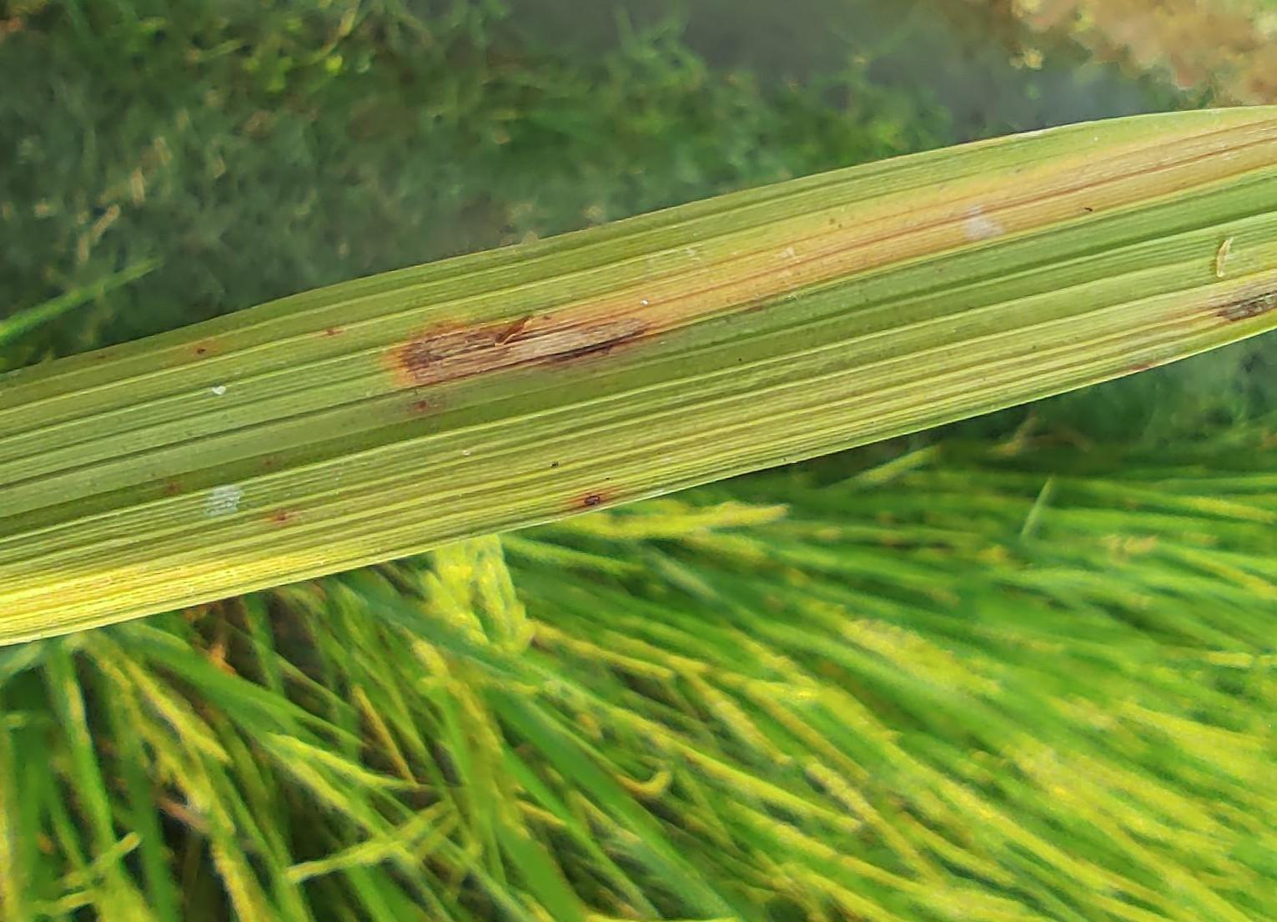LEAF: (0, 107, 1276, 643)
LEAF BLAST: (391, 315, 654, 385), (1214, 277, 1276, 323)
